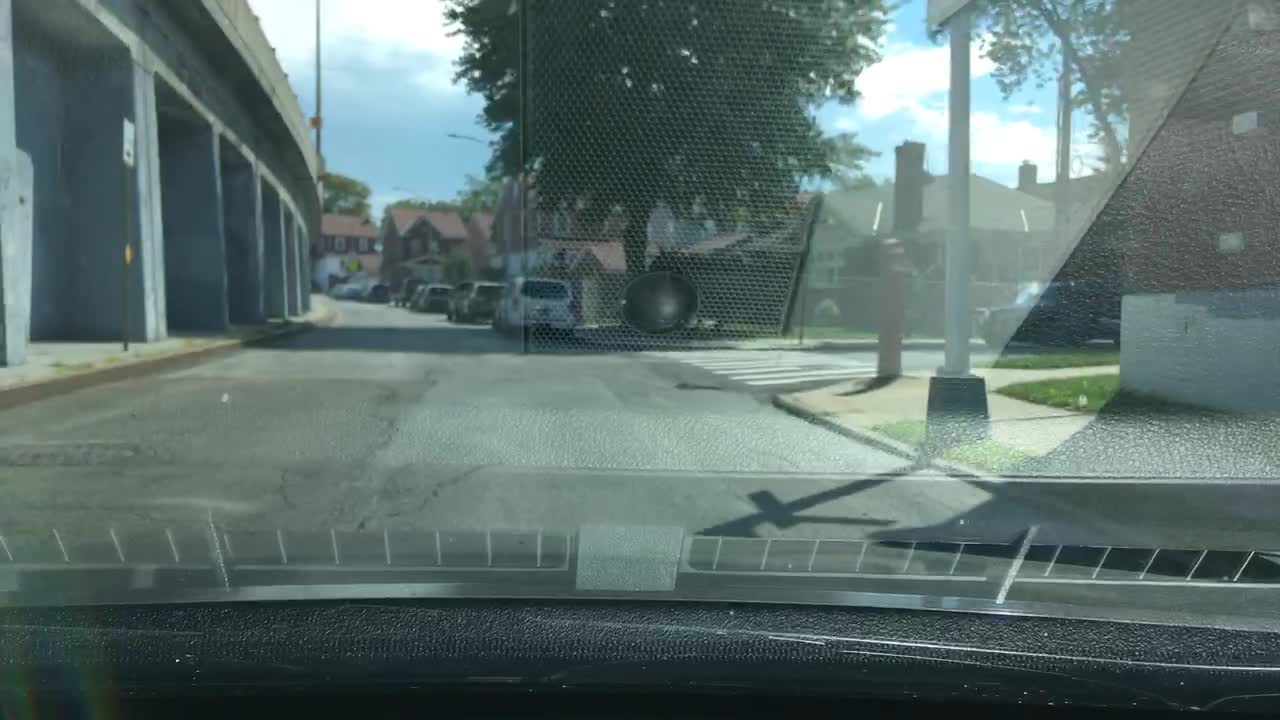car: (981, 275, 1125, 359), (489, 277, 581, 335), (445, 281, 510, 321), (419, 283, 451, 313), (388, 279, 416, 306), (331, 280, 361, 299), (363, 283, 390, 304), (409, 283, 425, 308)
traffic sign: (120, 116, 136, 168), (123, 243, 134, 264), (344, 260, 358, 273)
